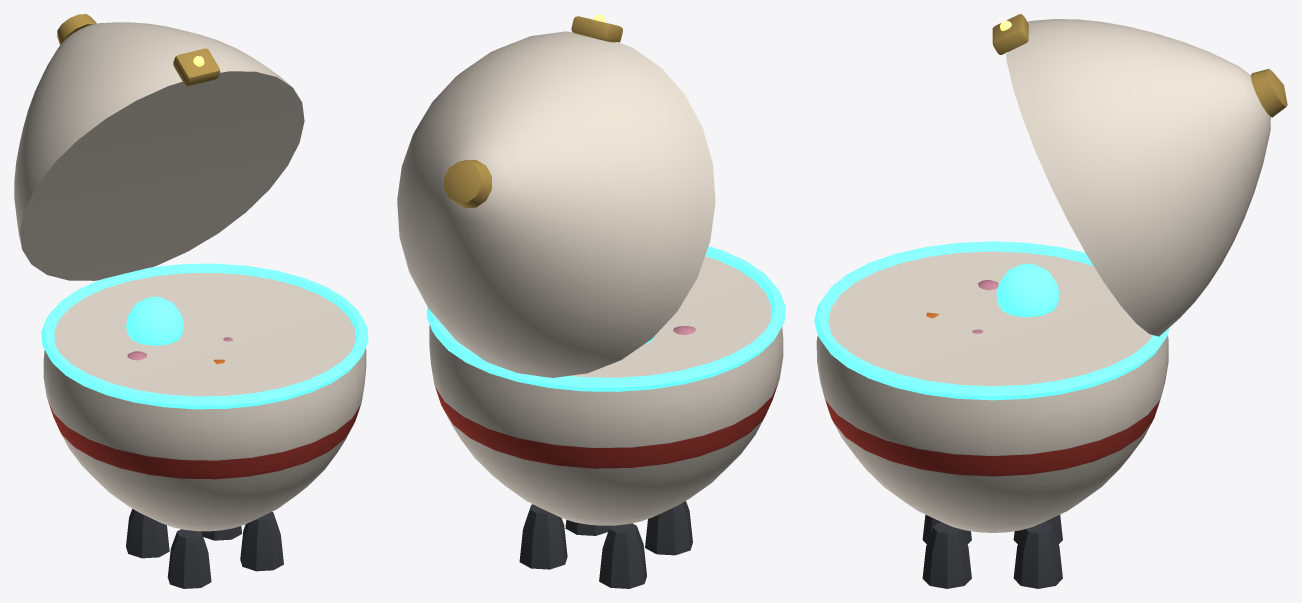
File: deco_cargo_pod_open.fbx
The picture shows the model from 3 angles, left to right: view 1: azimuth 30°, elevation 25°; view 2: azimuth 150°, elevation 25°; view 3: azimuth 270°, elevation 25°; orthographic projection. The views are drawn at different scales.
Parts seen in each view (by area): view 1: CargoPod_Open_ShellLower, CargoPod_Open_ShellUpper, CargoPod_Open_Contents; view 2: CargoPod_Open_ShellUpper, CargoPod_Open_ShellLower; view 3: CargoPod_Open_ShellLower, CargoPod_Open_ShellUpper, CargoPod_Open_Contents.
Boxes of the visible parts, x1,y1,x2,y2 form: CargoPod_Open_ShellLower: (41,263,368,588); CargoPod_Open_ShellUpper: (14,14,304,280); CargoPod_Open_Contents: (126,296,232,364); CargoPod_Open_ShellUpper: (397,14,715,377); CargoPod_Open_ShellLower: (426,246,785,588); CargoPod_Open_ShellLower: (814,241,1169,588); CargoPod_Open_ShellUpper: (992,14,1287,336); CargoPod_Open_Contents: (926,263,1059,333).
Size of the model in its own units: 101 by 168 by 134.
